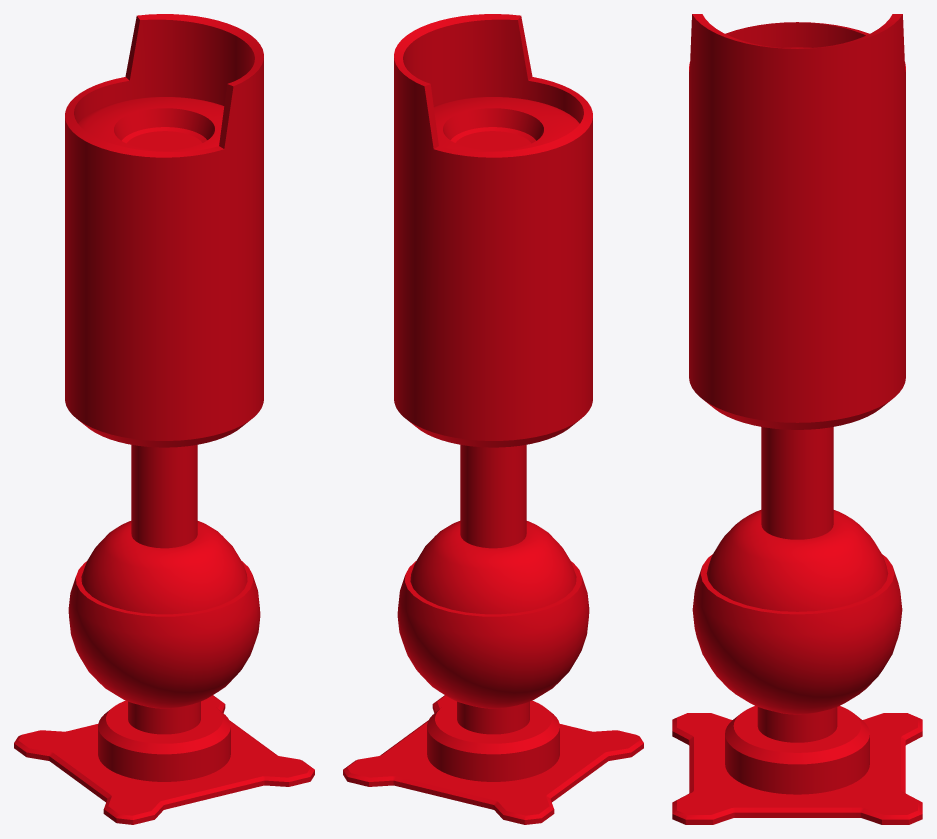
File: Cam_wall.fbx
3 renders of one model, left to right at view 1: azimuth 30°, elevation 25°; view 2: azimuth 150°, elevation 25°; view 3: azimuth 270°, elevation 25°, orthographic. The views are drawn at different scales.
Visible parts, largest first — view 1: Sphere, Plane_high.001; view 2: Sphere, Plane_high.001; view 3: Sphere, Plane_high.001.
Part boxes in pixels (x1,y1,x2,y2): Sphere: [65, 14, 263, 614]; Plane_high.001: [14, 561, 314, 824]; Sphere: [394, 14, 592, 614]; Plane_high.001: [343, 561, 643, 824]; Sphere: [689, 14, 905, 611]; Plane_high.001: [672, 554, 922, 824].
Bounding box in the file's own units: 148 × 503 × 148.
